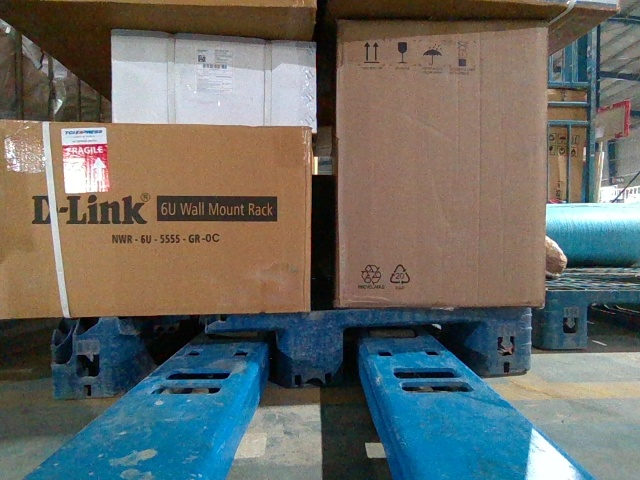block: (50, 316, 139, 393), (271, 311, 349, 386), (474, 305, 531, 377), (539, 289, 588, 348)
front: (49, 306, 531, 397)
hole pallet: (122, 330, 284, 392), (341, 324, 479, 387), (586, 302, 639, 345)
